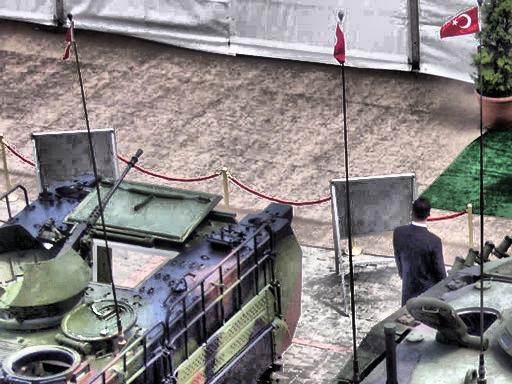tanks: (1, 169, 301, 384), (361, 241, 512, 384), (333, 361, 353, 384)
